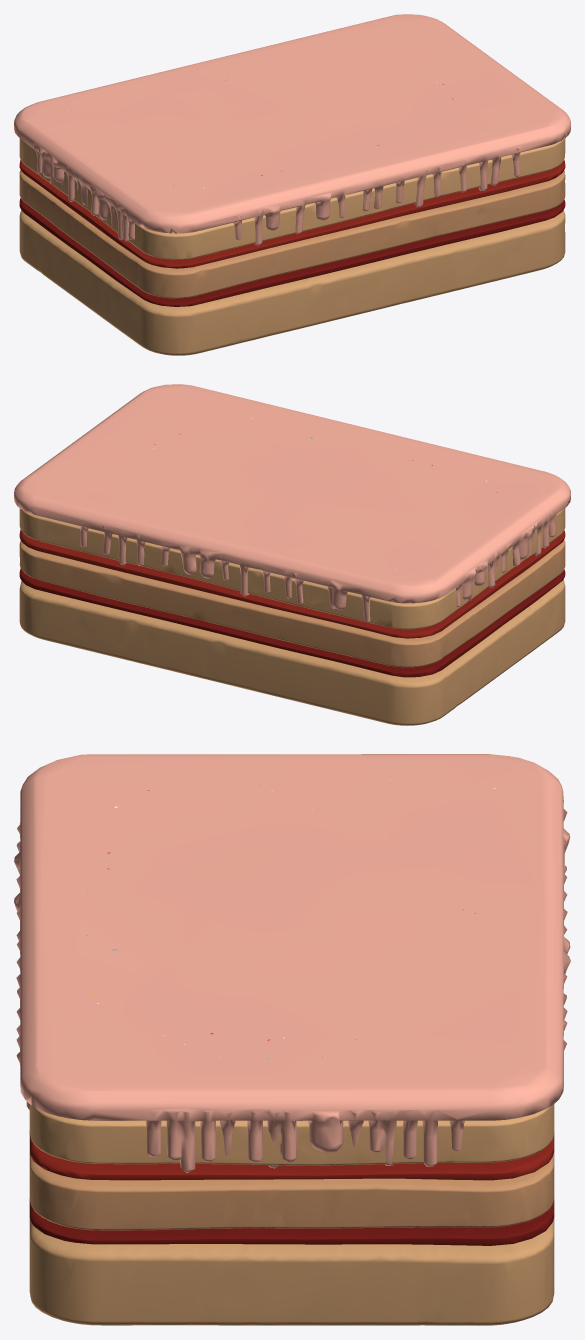
File: cake-mesa.glb
The picture shows the model from 3 angles, top to bottom: view 1: azimuth 30°, elevation 25°; view 2: azimuth 150°, elevation 25°; view 3: azimuth 270°, elevation 25°; orthographic projection. The views are drawn at different scales.
Visible parts, largest first — view 1: Rounded poured strawberry frosting, Golden sponge bottom, Golden sponge lower, Golden sponge upper, Raspberry jam deep, Raspberry jam ribbon; view 2: Rounded poured strawberry frosting, Golden sponge bottom, Golden sponge lower, Golden sponge upper, Raspberry jam ribbon, Raspberry jam deep; view 3: Rounded poured strawberry frosting, Golden sponge bottom, Golden sponge lower, Golden sponge upper, Raspberry jam deep, Raspberry jam ribbon.
Part boxes in pixels (<box>): Rounded poured strawberry frosting: <box>14,14,570,245</box>; Golden sponge bottom: <box>19,210,565,355</box>; Golden sponge lower: <box>19,170,565,298</box>; Golden sponge upper: <box>19,138,565,259</box>; Raspberry jam deep: <box>19,198,565,306</box>; Raspberry jam ribbon: <box>19,160,565,268</box>; Rounded poured strawberry frosting: <box>14,384,570,622</box>; Golden sponge bottom: <box>19,579,565,725</box>; Golden sponge lower: <box>19,540,565,667</box>; Golden sponge upper: <box>19,508,565,629</box>; Raspberry jam ribbon: <box>19,529,565,638</box>; Raspberry jam deep: <box>19,568,565,677</box>; Rounded poured strawberry frosting: <box>14,754,570,1172</box>; Golden sponge bottom: <box>29,1217,554,1325</box>; Golden sponge lower: <box>29,1136,554,1230</box>; Golden sponge upper: <box>29,1104,554,1165</box>; Raspberry jam deep: <box>29,1199,554,1245</box>; Raspberry jam ribbon: <box>29,1130,554,1180</box>.
Bounding box in the file's own units: 13.15 × 4.2 × 8.71.
